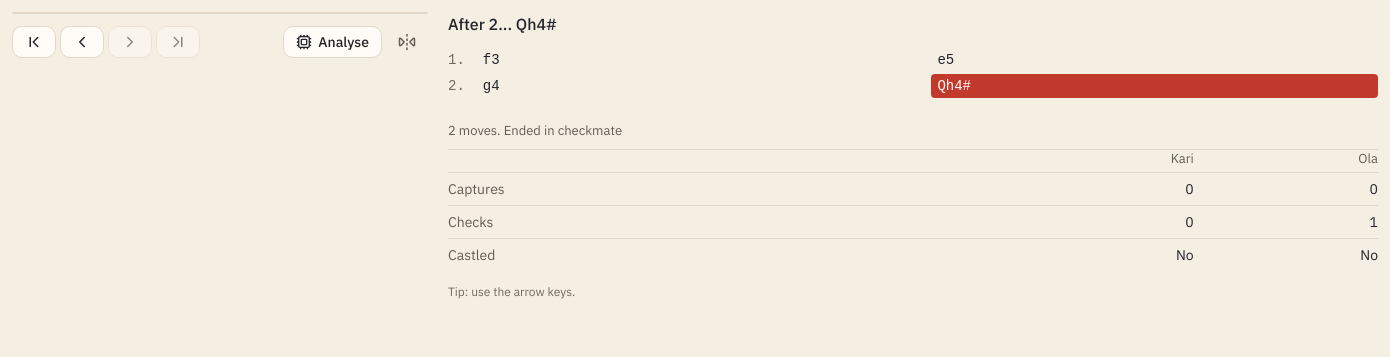
Test: analysing a game › says so when the engine can’t run here, and can try again
Click the button "Analyse".
click(333, 42)  # box x1=283 y1=26 x2=382 y2=58
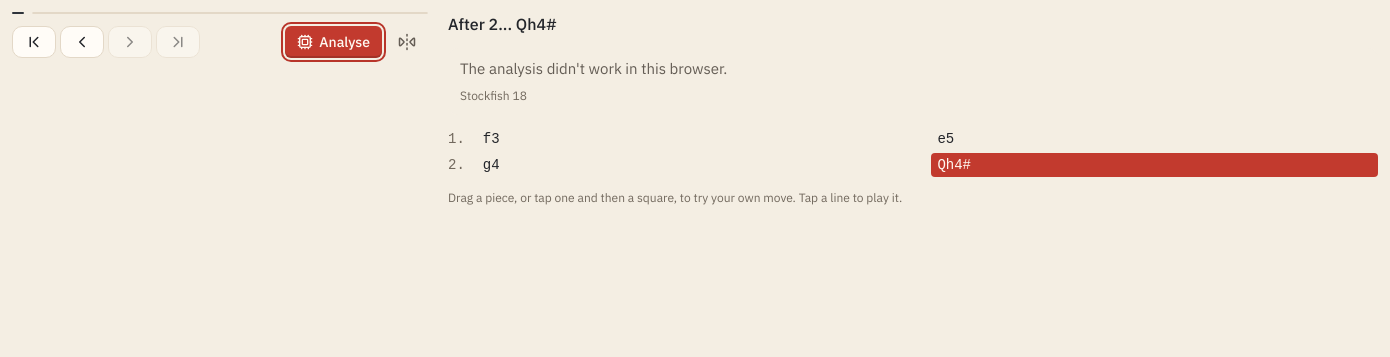
Now the text "The analysis didn't work in this browser." is shown, box x1=460 y1=59 x2=727 y2=78
Click the button "Analyse".
click(334, 42)  # box x1=285 y1=26 x2=382 y2=58
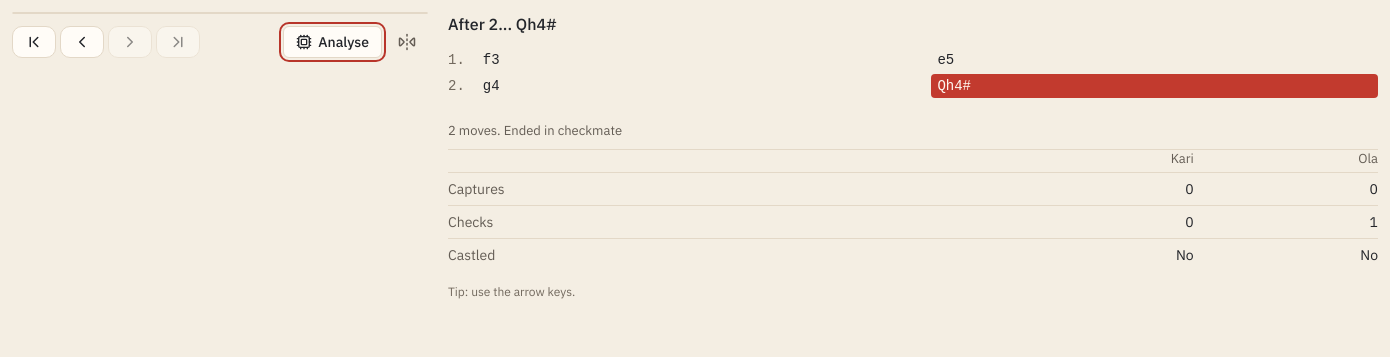
Click the button "Analyse".
click(333, 42)  # box x1=283 y1=26 x2=382 y2=58
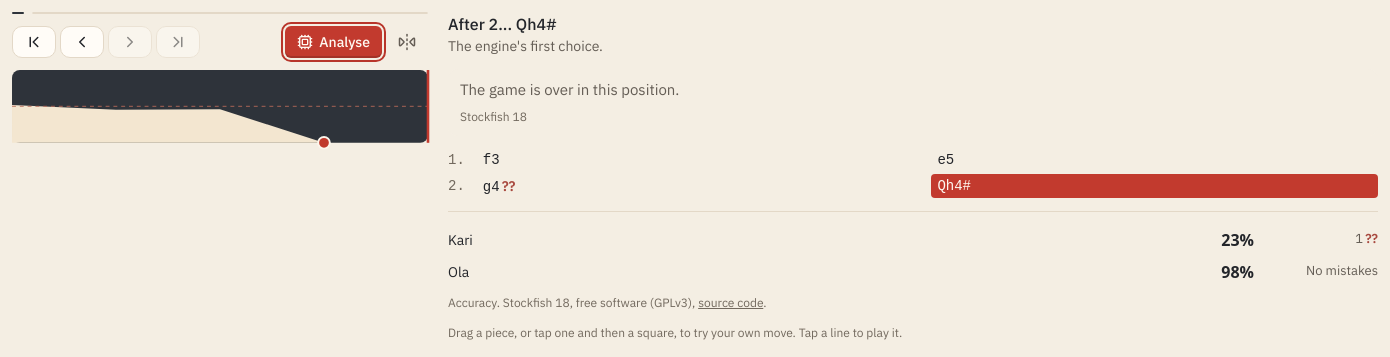
Now the picture named "Evaluation through the game. White is ahead above the middle line." is shown, box x1=12 y1=70 x2=428 y2=143
